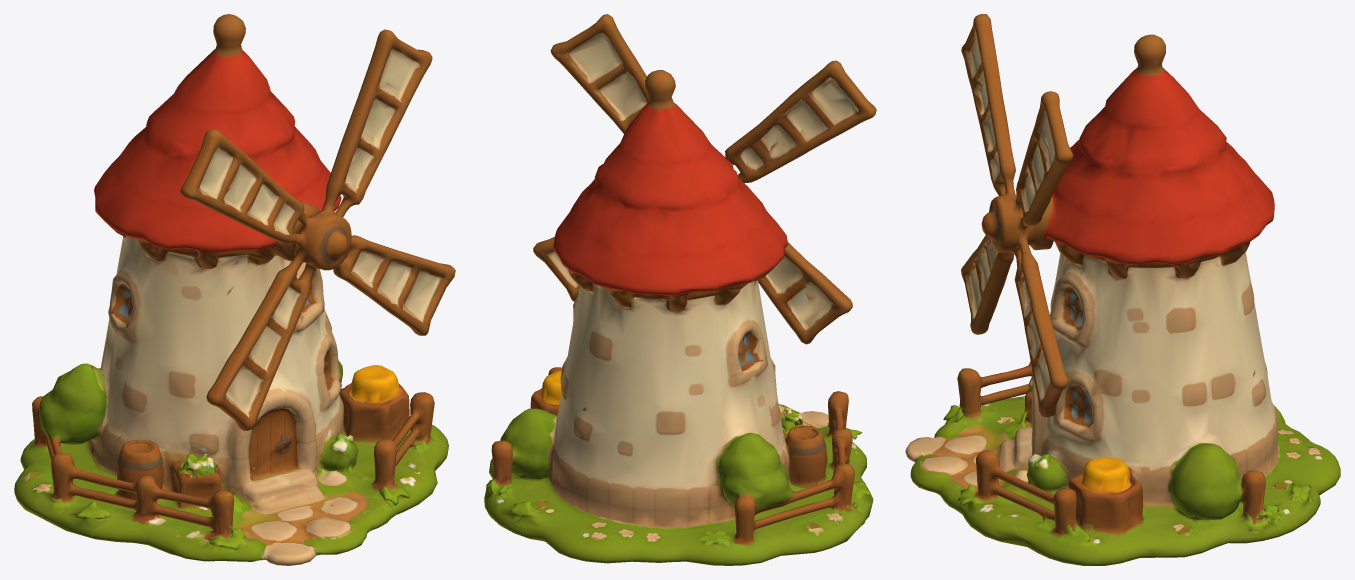
3 renders of one model, left to right at view 1: azimuth 30°, elevation 25°; view 2: azimuth 150°, elevation 25°; view 3: azimuth 270°, elevation 25°, orthographic. The views are drawn at different scales.
Visible parts, largest first — view 1: windmill; view 2: windmill; view 3: windmill.
Part boxes in pixels (left/top/right/bottom): windmill: left=14, top=14, right=455, bottom=565; windmill: left=484, top=14, right=876, bottom=565; windmill: left=905, top=14, right=1340, bottom=565.
Bounding box in the file's own units: 8.13 × 9 × 7.99.
Materials: 1 (1 with a texture image).
